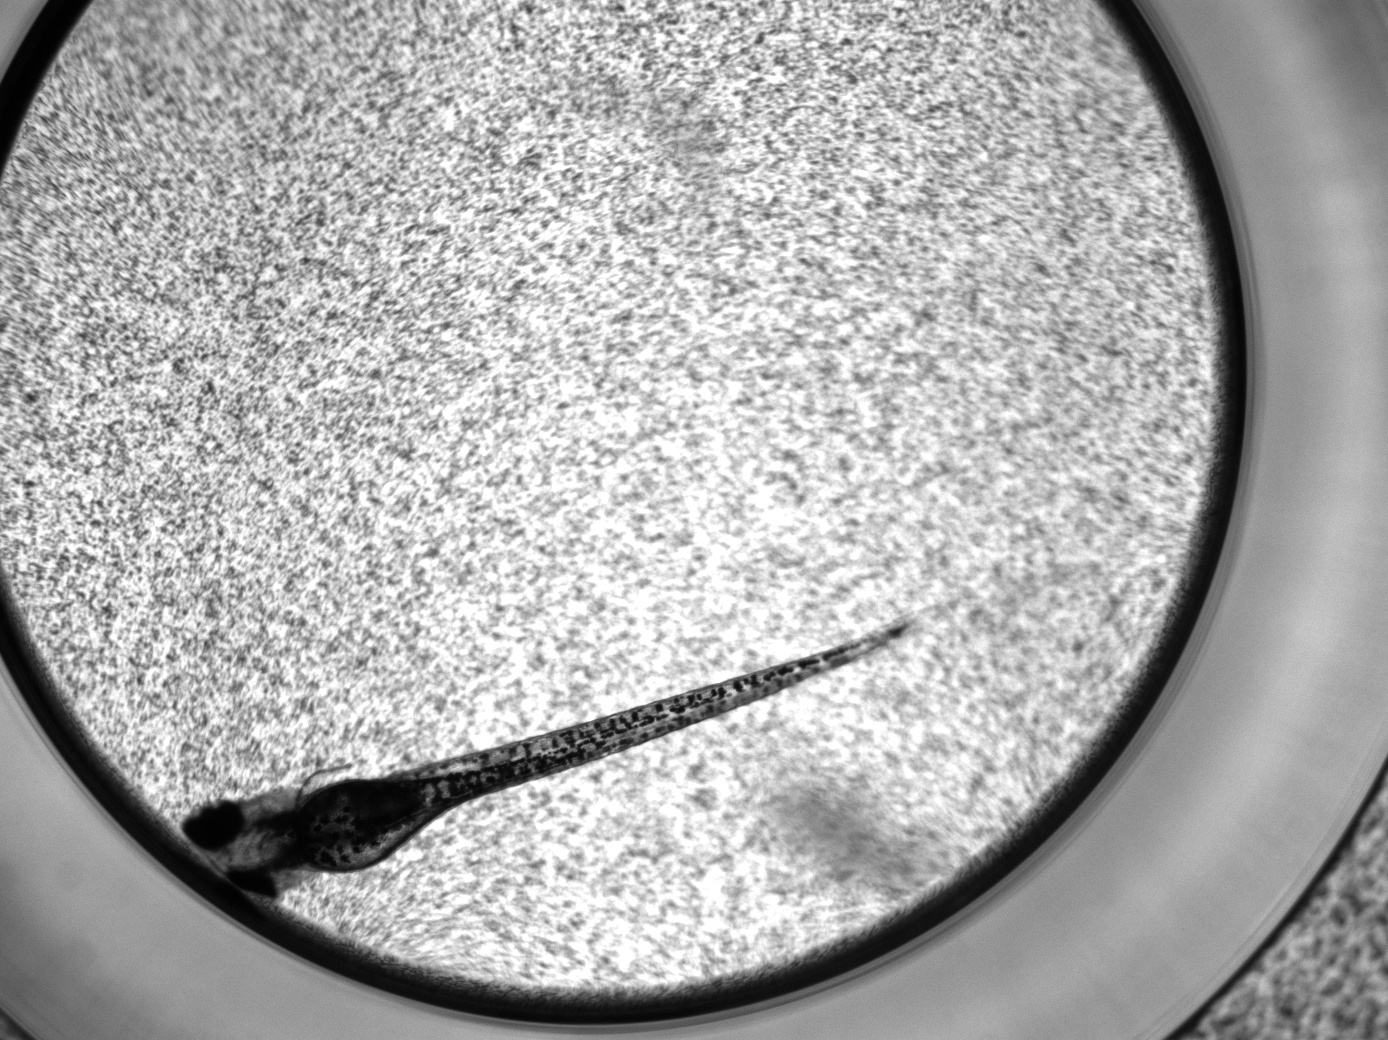embryo: (182, 616, 920, 899)
eye: (182, 799, 244, 851), (224, 864, 278, 899)
yolksac: (296, 779, 424, 873)
